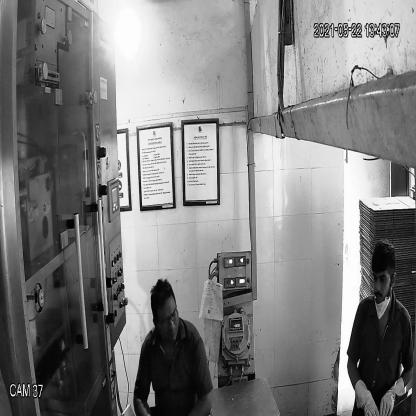goggles: (149, 308, 182, 328)
no_goggles: (369, 268, 390, 288)
